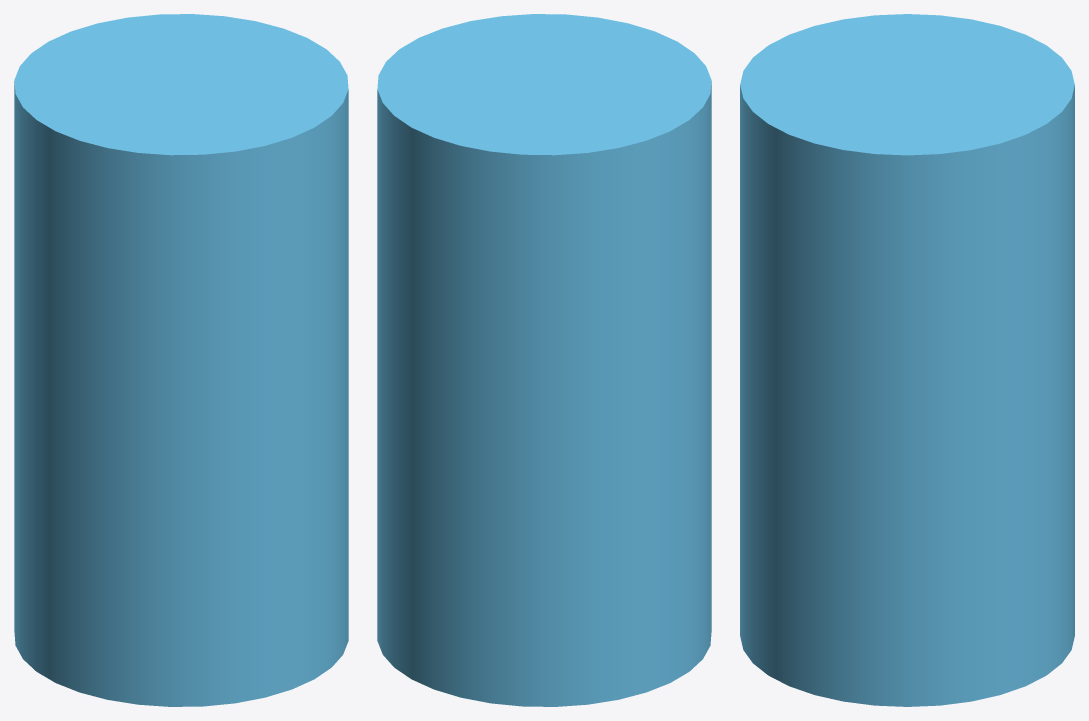
3 views of the same model, side by side, from view 1: azimuth 30°, elevation 25°; view 2: azimuth 150°, elevation 25°; view 3: azimuth 270°, elevation 25° (orthographic).
Bounding box in the file's own units: 1.1 × 2 × 1.1.
